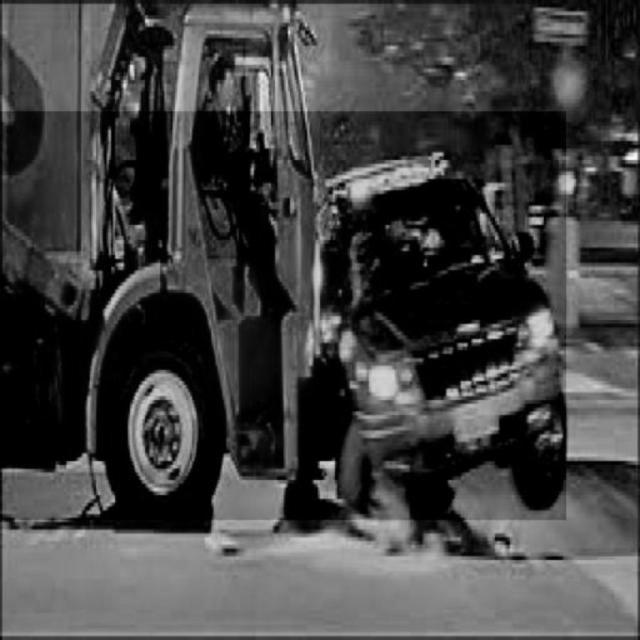accident: (0, 112, 566, 520)
